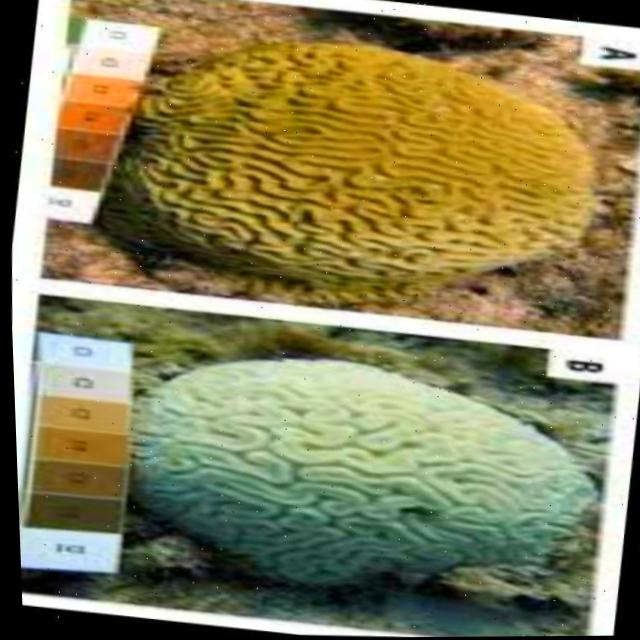Bleached Coral: (144, 357, 588, 615)
Healthy Coral: (136, 14, 592, 290)
